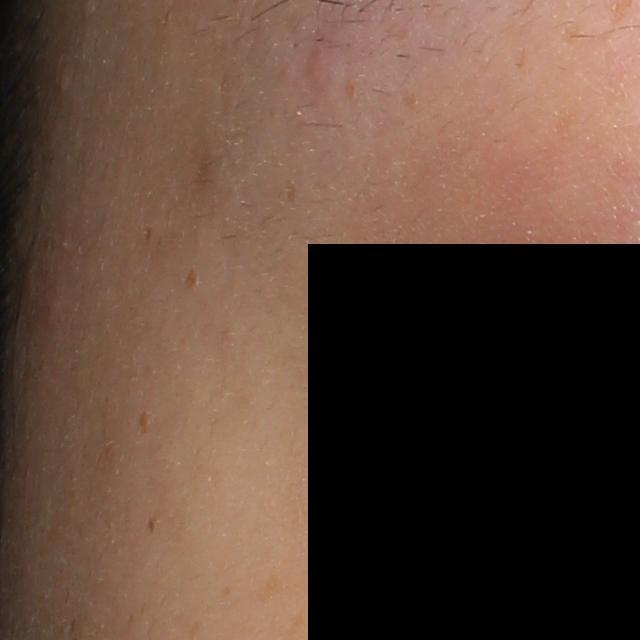melasma: (135, 407, 155, 436), (179, 267, 200, 291), (145, 514, 161, 536)
